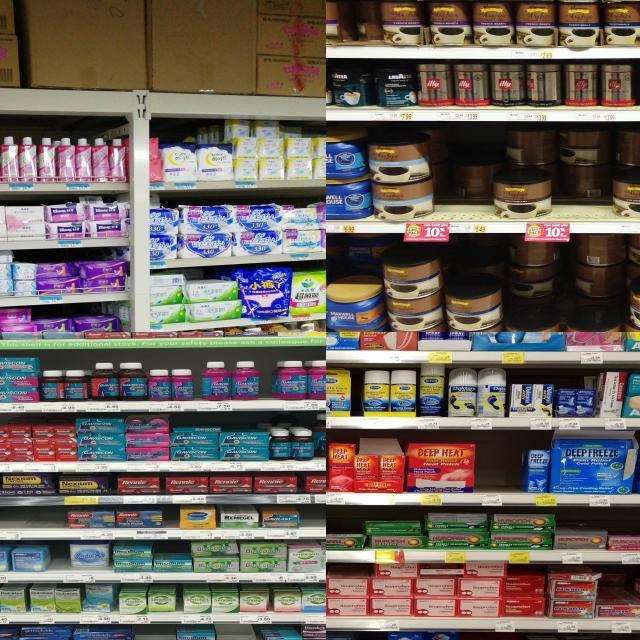empty: (478, 438, 518, 504), (0, 506, 67, 539), (300, 504, 326, 538), (50, 540, 68, 582), (137, 626, 174, 640)
